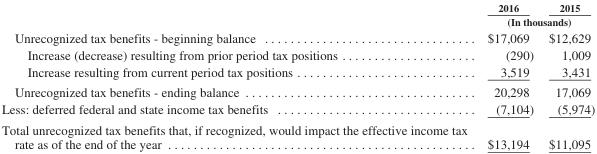table: (0, 1, 594, 150)
table column: (0, 1, 476, 150), (476, 1, 540, 150), (540, 1, 594, 150)
table column header: (0, 1, 594, 28)
table row: (0, 119, 594, 150), (0, 62, 594, 81), (0, 81, 594, 100), (0, 100, 594, 119), (0, 28, 594, 46), (0, 46, 594, 62), (0, 14, 594, 28), (0, 1, 594, 14)
table spanning cell: (476, 14, 594, 28)
